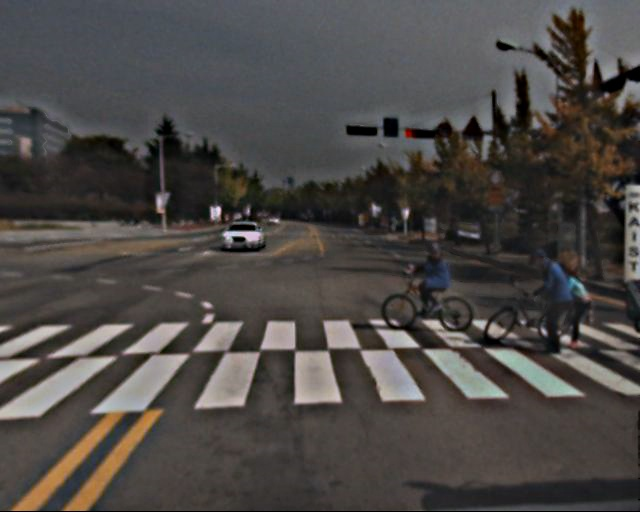person: (528, 252, 570, 355), (555, 263, 589, 347), (418, 241, 450, 318)
